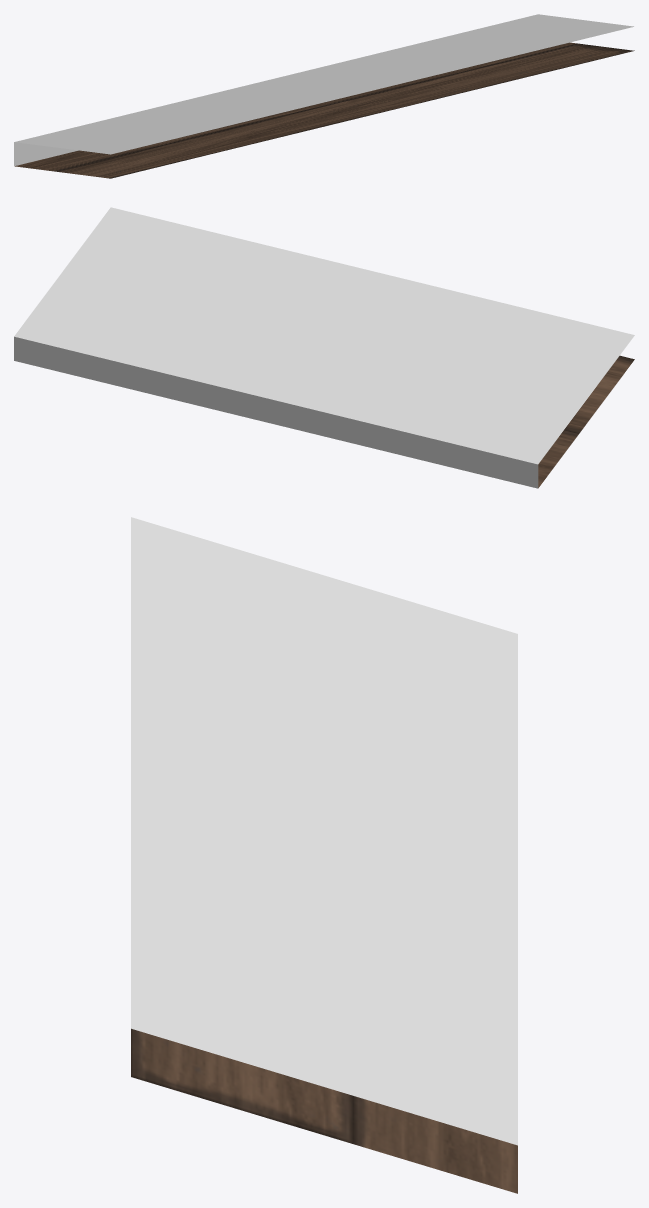
Rendered from Roof_2mH_Edge_B.fbx.
3 views of the same model, one above another, from view 1: azimuth 30°, elevation 25°; view 2: azimuth 150°, elevation 25°; view 3: azimuth 270°, elevation 25° (orthographic). The views are drawn at different scales.
Parts seen in each view (by area): view 1: Roof_2mH_Edge_B; view 2: Roof_2mH_Edge_B; view 3: Roof_2mH_Edge_B.
Part boxes in pixels (x1,y1,x2,y2): Roof_2mH_Edge_B: [14, 14, 634, 178]; Roof_2mH_Edge_B: [14, 207, 634, 488]; Roof_2mH_Edge_B: [131, 517, 517, 1193].
Size of the model in its own units: 2.99 by 0.9563 by 0.4506.
